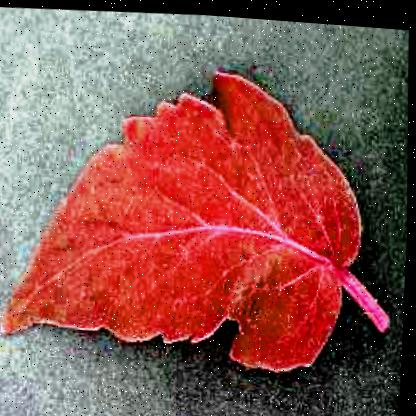Healthy: (0, 41, 406, 404)
